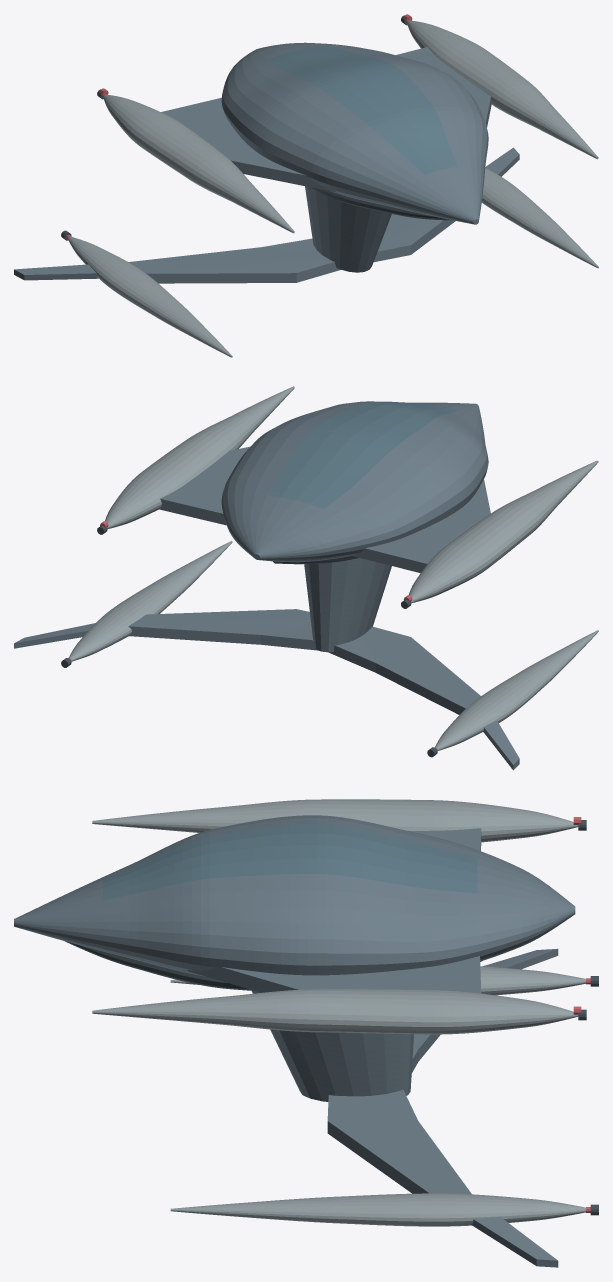
File: arma_navy_off.glb
3 renders of one model, top to bottom at view 1: azimuth 30°, elevation 25°; view 2: azimuth 150°, elevation 25°; view 3: azimuth 270°, elevation 25°, orthographic. The views are drawn at different scales.
Visible parts, largest first — view 1: material_0, material_3, material_1, material_2; view 2: material_0, material_3, material_1, material_2; view 3: material_0, material_3, material_1, material_2.
Boxes of the visible parts, x1,y1,x2,y2 form: material_0: [14, 42, 519, 283]; material_3: [67, 20, 598, 357]; material_1: [267, 46, 457, 174]; material_2: [61, 15, 453, 240]; material_0: [14, 401, 519, 770]; material_3: [68, 386, 598, 750]; material_1: [267, 401, 457, 508]; material_2: [61, 525, 437, 757]; material_0: [14, 815, 575, 1267]; material_3: [92, 799, 585, 1226]; material_1: [103, 824, 477, 900]; material_2: [65, 820, 598, 1215].
Size of the model in its own units: 4.8 by 1.91 by 3.81.
